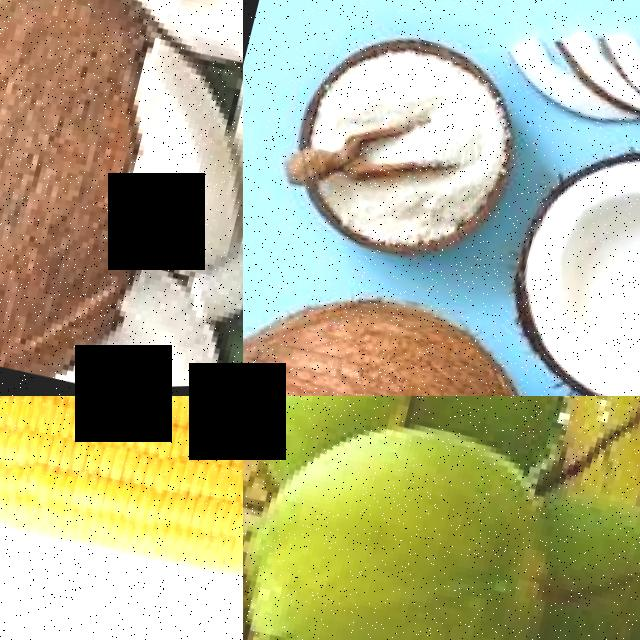coconut: (243, 396, 568, 640), (0, 0, 164, 389), (482, 115, 640, 396), (243, 257, 561, 396), (278, 396, 584, 459)
corn: (0, 396, 243, 614)
